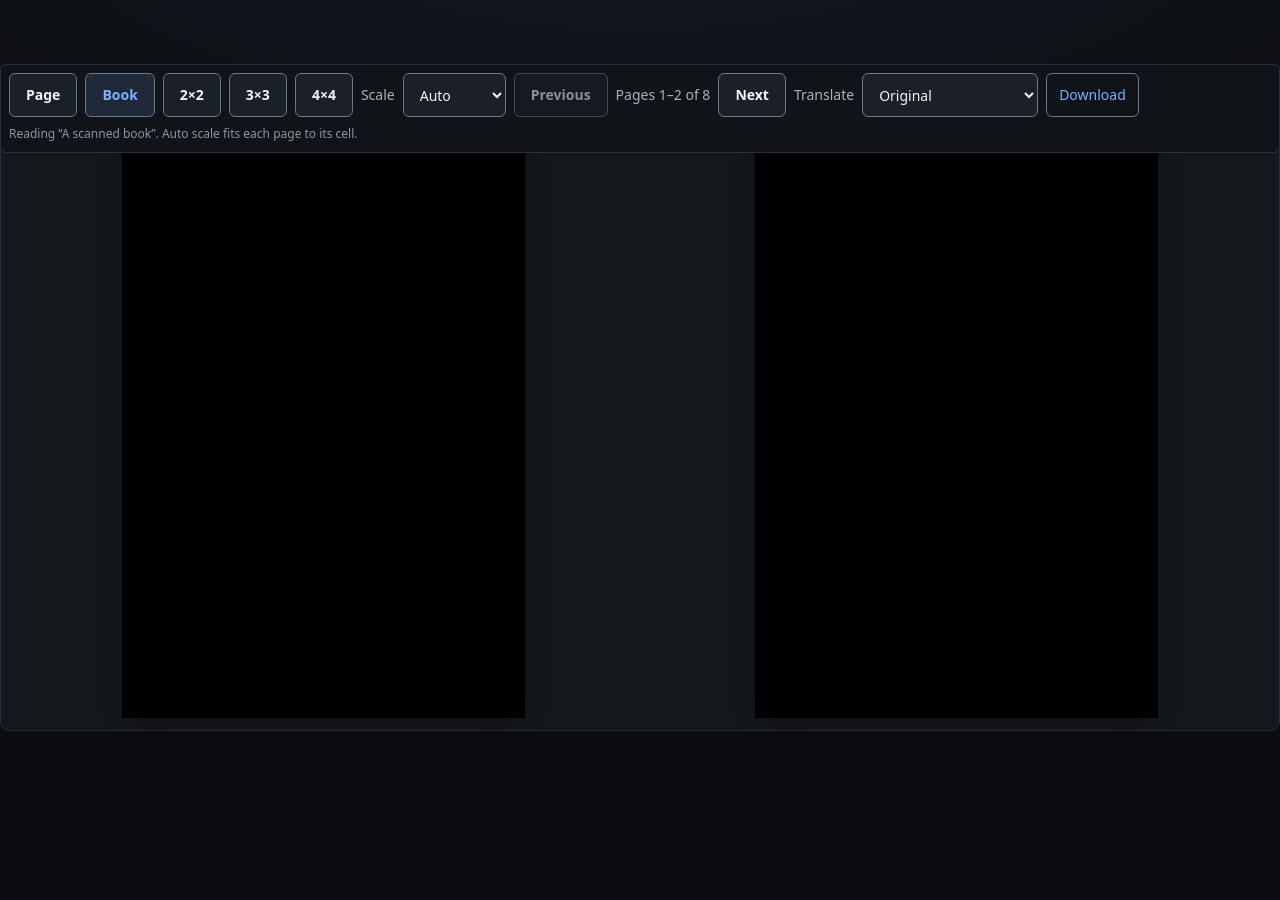
Test case: PdfViewer › turns the page in book mode
This screenshot has width=1280, height=900.
Click the button with aria-label "Next page": coordinates (752, 95) [718,73,786,117]
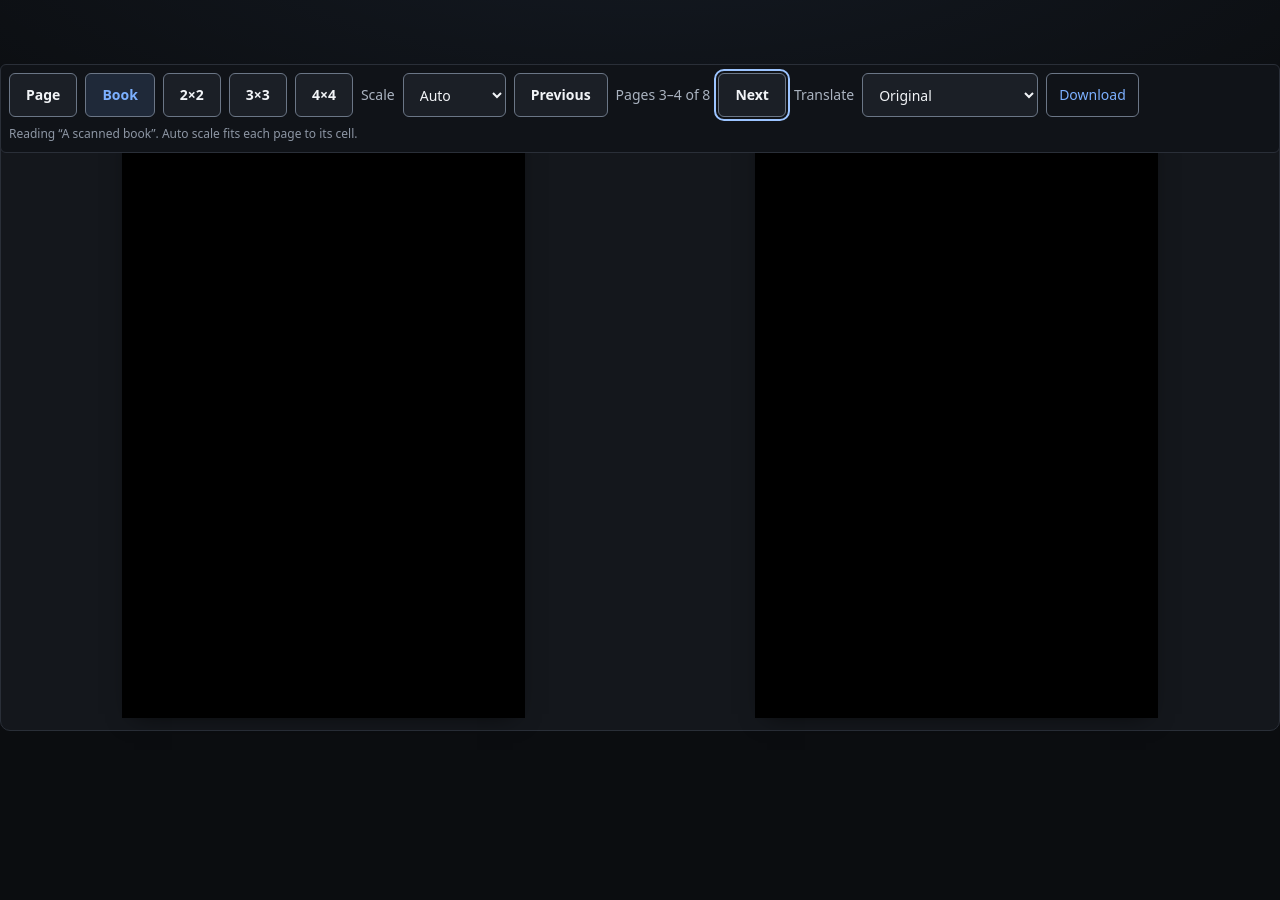
Now the text "Pages 3–4 of 8" is shown, box [616,85,710,104]
